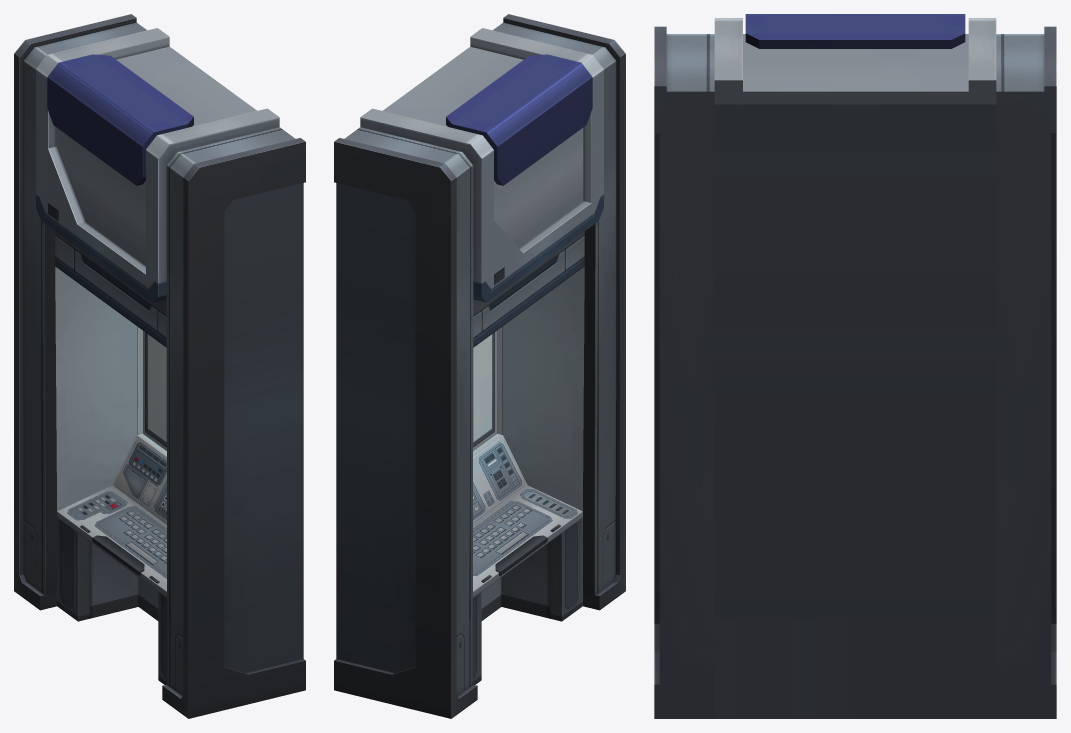
Rendered from my_carrier_01_computer_01.glb.
3 renders of one model, left to right at view 1: azimuth 30°, elevation 25°; view 2: azimuth 150°, elevation 25°; view 3: azimuth 270°, elevation 25°, orthographic. The views are drawn at different scales.
Parts seen in each view (by area): view 1: my_carrier_01_computer_01; view 2: my_carrier_01_computer_01; view 3: my_carrier_01_computer_01.
Part boxes in pixels (left/top/right/bottom): my_carrier_01_computer_01: left=14, top=14, right=305, bottom=718; my_carrier_01_computer_01: left=334, top=14, right=625, bottom=718; my_carrier_01_computer_01: left=654, top=14, right=1056, bottom=718.
Bounding box in the file's own units: 0.00409 × 0.0176 × 0.01.
1 material, 1 textured.
